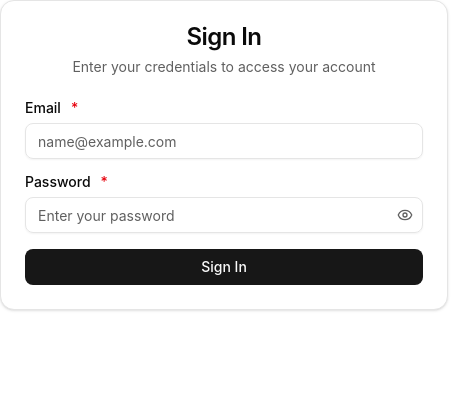
Test case: Login › shows network error message when server is unreachable
Step 1. Type "test@example.com" into the field labelled "Email *" → (224, 141), box [25,123,423,159]
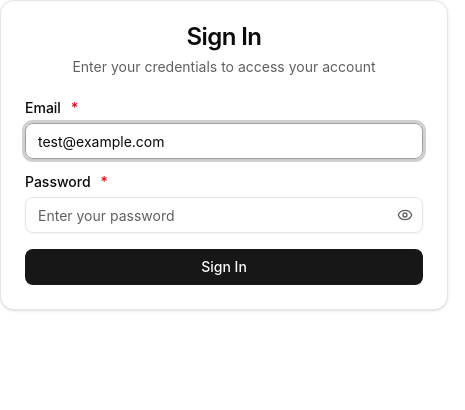
Step 2. Type "Password123" into the password field labelled "Password *" → (224, 215), box [25,197,423,233]
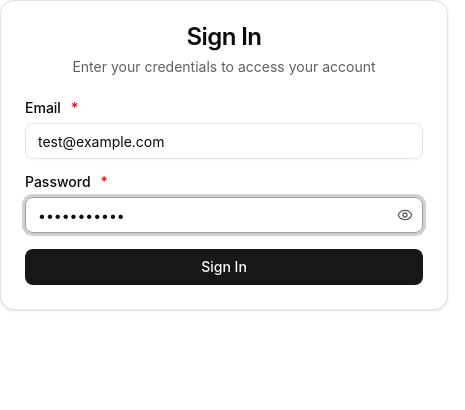
Step 3. Click the button "Sign In" → click(224, 267), box [25,249,423,285]
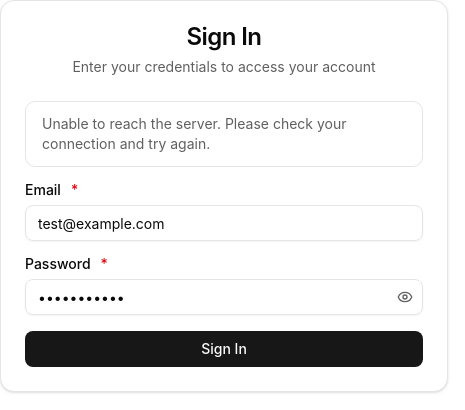
Now the text "Unable to reach the server" is shown, box [42,115,346,152]
